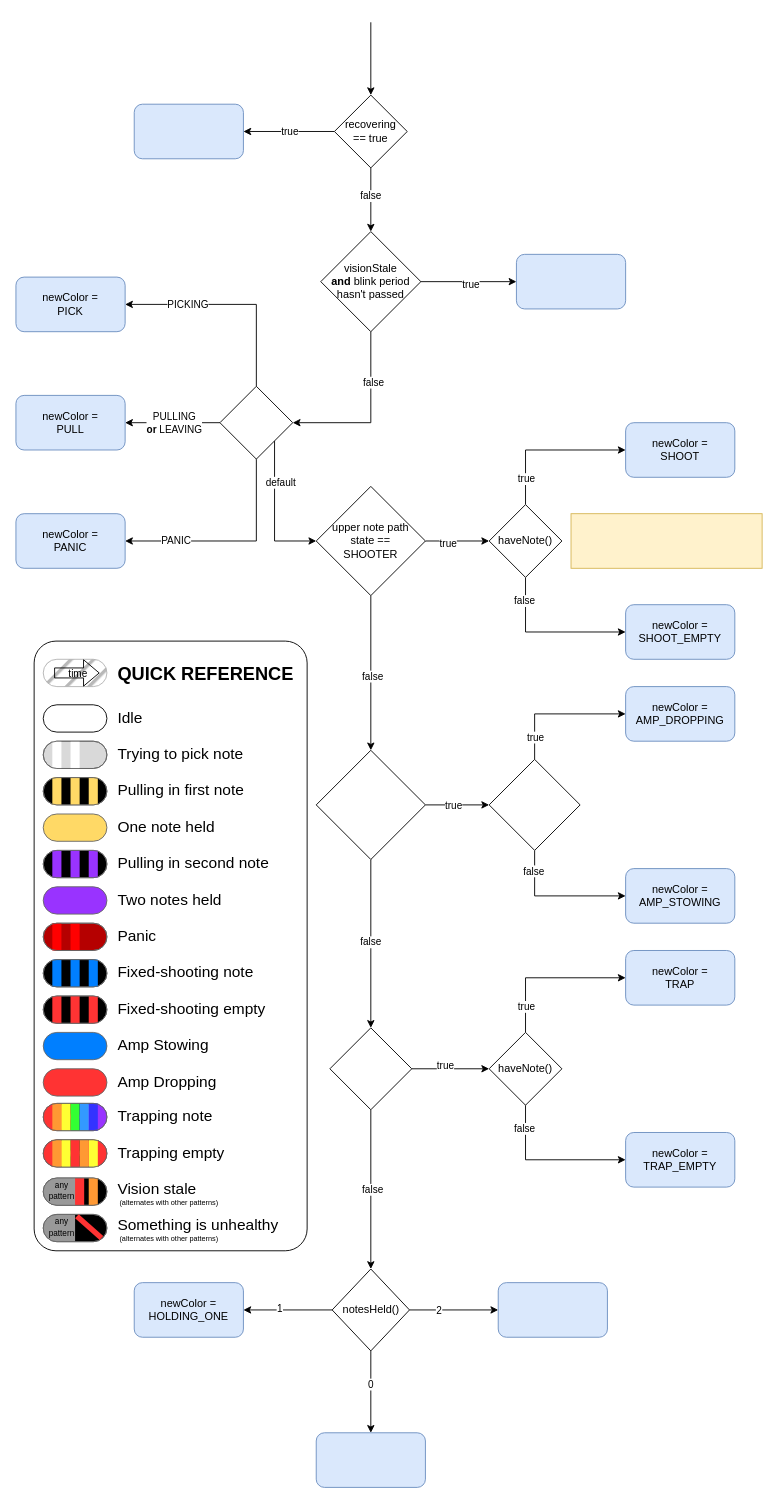
Image size: 778x1503. Some labels were removed from this diagram. Here are the shapes that lost their labels. From the top down, the box of each, then its label:
(133, 103, 243, 159): reset the PWM controller
(516, 253, 626, 309): newColor = VISION_STALE
(219, 385, 293, 459): picker state
(570, 513, 762, 568): haveNote() = kingRollers.anySensorTrue() or upperNotePath.anySensorTrue()
(315, 749, 425, 859): upper note path state == AMP
(488, 758, 580, 850): ampState == DROP
(329, 1027, 412, 1110): upper note path state == TRAP
(497, 1282, 607, 1337): newColor = HOLDING_TWO
(315, 1432, 425, 1487): newColor = IDLE
